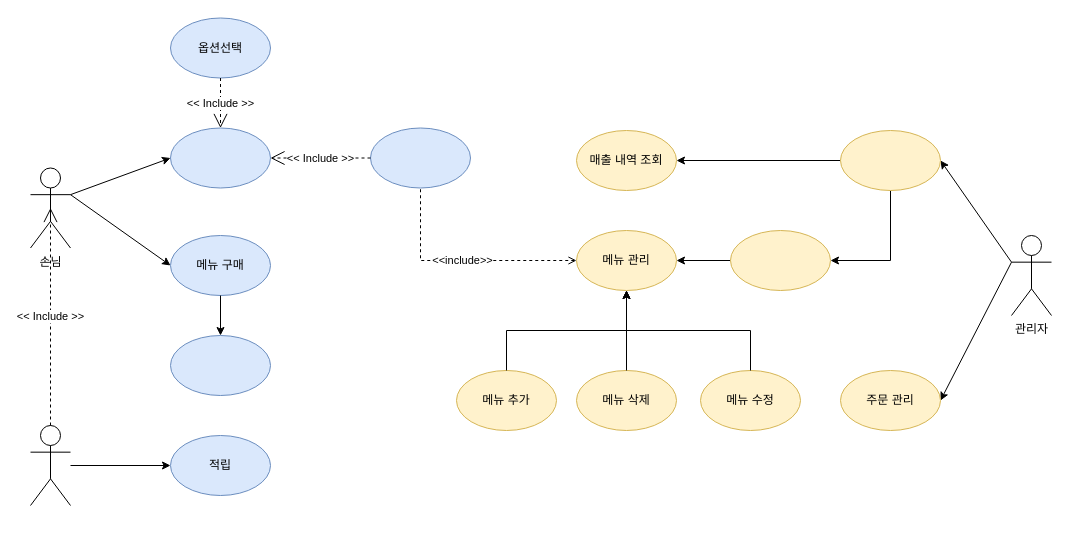
Some shapes in this 1069 by 543 pixel diagram are drawn without their labels. Here are the shapes that lost their labels. From the top down, the centre of each, then its label:
(x=220, y=157): 메뉴 선택
(x=420, y=157): 메뉴 조회
(x=890, y=160): 로그인
(x=780, y=260): 전체 메뉴 목록 조회
(x=220, y=365): 영수증 출력
(x=50, y=465): 회원
